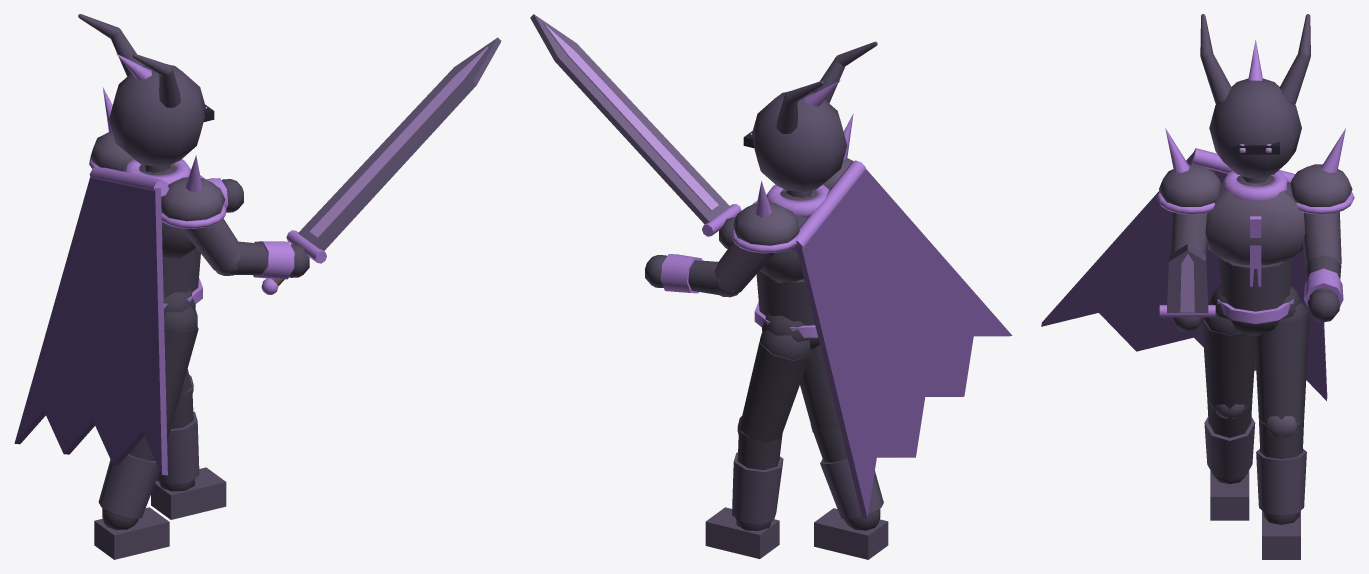
The model's file is enemy_6_shadow_knight.glb.
3 views of the same model, side by side, from view 1: azimuth 30°, elevation 25°; view 2: azimuth 150°, elevation 25°; view 3: azimuth 270°, elevation 25° (orthographic). The views are drawn at different scales.
Visible parts, largest first — view 1: Cape, Head, Weapon, LegR, Torso, LegL, ArmR, ArmL; view 2: Cape, LegL, Torso, Head, Weapon, LegR, ArmL; view 3: Torso, Cape, LegL, Head, LegR, ArmL, Weapon, ArmR.
Boxes of the visible parts, left/top/right/bottom form: Cape: left=14, top=167, right=168, bottom=475; Head: left=78, top=14, right=214, bottom=166; Weapon: left=261, top=37, right=501, bottom=294; LegR: left=94, top=306, right=198, bottom=559; Torso: left=89, top=87, right=226, bottom=315; LegL: left=151, top=369, right=226, bottom=519; ArmR: left=181, top=219, right=309, bottom=279; ArmL: left=205, top=178, right=243, bottom=212; Cape: left=791, top=160, right=1012, bottom=518; LegL: left=705, top=329, right=811, bottom=558; Torso: left=731, top=113, right=853, bottom=349; Head: left=743, top=41, right=877, bottom=191; Weapon: left=530, top=14, right=741, bottom=236; LegR: left=800, top=345, right=888, bottom=559; ArmL: left=645, top=241, right=774, bottom=297; Torso: left=1156, top=128, right=1354, bottom=335; Cape: left=1041, top=148, right=1327, bottom=400; LegL: left=1254, top=302, right=1309, bottom=559; Head: left=1200, top=14, right=1310, bottom=177; LegR: left=1202, top=302, right=1255, bottom=520; ArmL: left=1303, top=211, right=1343, bottom=322; Weapon: left=1159, top=244, right=1215, bottom=317; ArmR: left=1170, top=211, right=1208, bottom=331.
Size of the model in its own units: 2.47 by 2.88 by 1.67.
